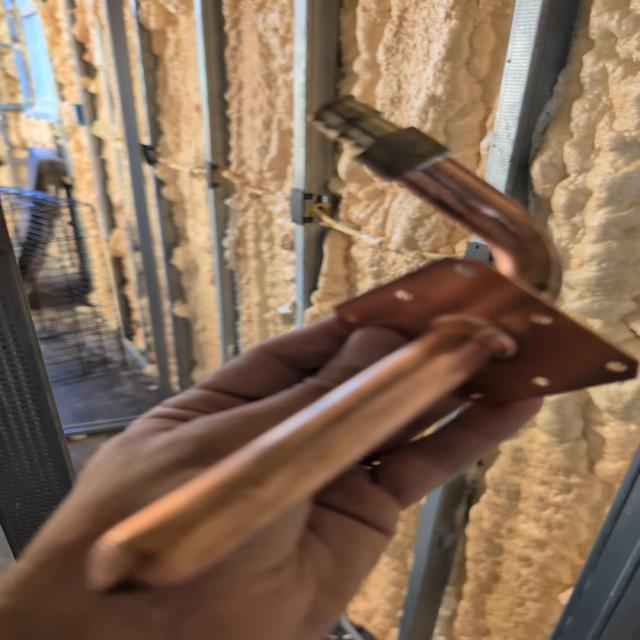wall_flange: (70, 88, 639, 622)
